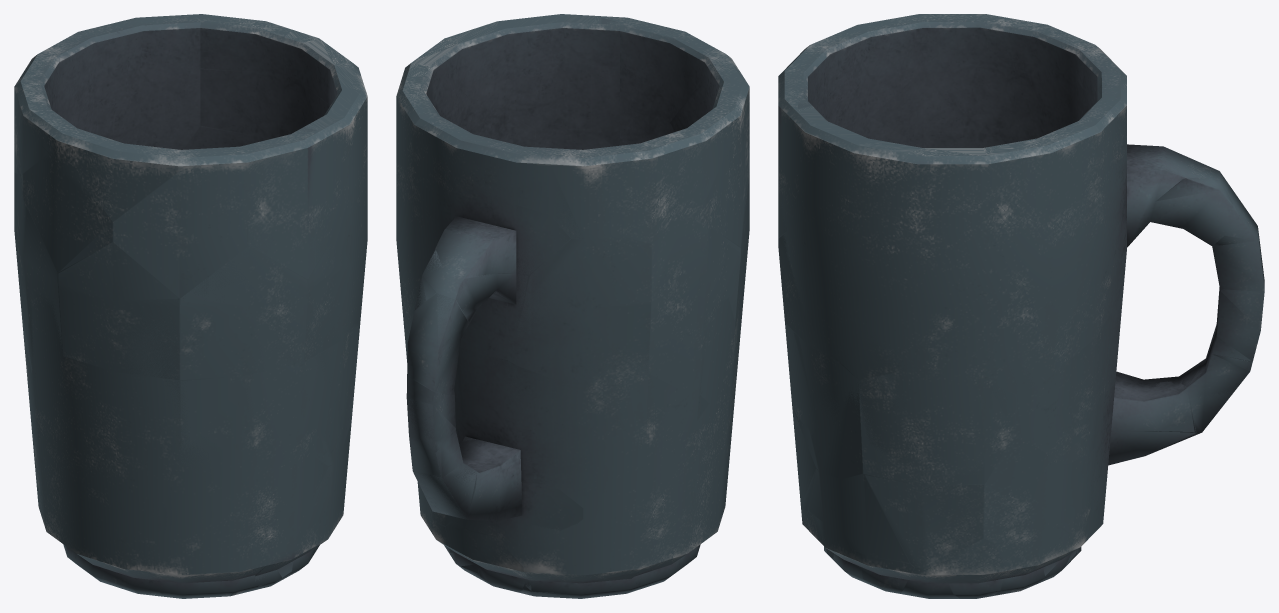
Rendered from MuggKross_withFractures_001_Malte.fbx.
The picture shows the model from 3 angles, left to right: view 1: azimuth 30°, elevation 25°; view 2: azimuth 150°, elevation 25°; view 3: azimuth 270°, elevation 25°; orthographic projection.
Visible parts, largest first — view 1: file1.002, file1.002_cell.051, file1.002_cell.008, file1.002_cell.021, file1.002_cell.020, file1.002_cell.062, file1.002_cell.031, file1.002_cell.005, file1.002_cell.029, file1.002_cell.079, file1.002_cell.049, file1.002_cell.048 (+18 smaller); view 2: file1.002, file1.002_cell.041, file1.002_cell.047, file1.002_cell.097, file1.002_cell.054, file1.002_cell.053, file1.002_cell.011, file1.002_cell.072, file1.002_cell.076, file1.002_cell.091, file1.002_cell.092, file1.002_cell.062 (+24 smaller); view 3: file1.002, file1.002_cell.014, file1.002_cell.001, file1.002_cell.083, file1.002_cell.055, file1.002_cell.071, file1.002_cell.015, file1.002_cell.058, file1.002_cell.081, file1.002_cell.069, file1.002_cell.088, file1.002_cell.062 (+16 smaller).
Part boxes in pixels (<box>): file1.002: <box>14,14,367,598</box>; file1.002_cell.051: <box>180,247,307,380</box>; file1.002_cell.008: <box>58,243,179,380</box>; file1.002_cell.021: <box>97,69,199,149</box>; file1.002_cell.020: <box>180,376,291,481</box>; file1.002_cell.062: <box>21,160,112,272</box>; file1.002_cell.031: <box>113,172,247,297</box>; file1.002_cell.005: <box>248,179,327,279</box>; file1.002_cell.029: <box>200,69,278,138</box>; file1.002_cell.079: <box>82,143,178,220</box>; file1.002_cell.049: <box>200,14,284,80</box>; file1.002_cell.048: <box>304,244,357,361</box>; file1.002: <box>396,16,749,598</box>; file1.002_cell.041: <box>517,235,651,378</box>; file1.002_cell.047: <box>649,216,740,395</box>; file1.002_cell.097: <box>457,19,540,113</box>; file1.002_cell.054: <box>618,150,683,243</box>; file1.002_cell.053: <box>498,63,591,130</box>; file1.002_cell.011: <box>551,163,617,239</box>; file1.002_cell.072: <box>407,293,469,395</box>; file1.002_cell.076: <box>457,205,570,278</box>; file1.002_cell.091: <box>468,356,551,471</box>; file1.002_cell.092: <box>496,483,583,566</box>; file1.002_cell.062: <box>693,134,749,246</box>; file1.002: <box>778,14,1264,598</box>; file1.002_cell.014: <box>1015,316,1109,464</box>; file1.002_cell.001: <box>865,475,983,568</box>; file1.002_cell.083: <box>984,434,1064,543</box>; file1.002_cell.055: <box>1099,307,1194,442</box>; file1.002_cell.071: <box>792,332,862,479</box>; file1.002_cell.015: <box>859,374,1015,485</box>; file1.002_cell.058: <box>1094,431,1196,505</box>; file1.002_cell.081: <box>842,475,909,562</box>; file1.002_cell.069: <box>932,539,1007,598</box>; file1.002_cell.088: <box>1061,444,1098,533</box>; file1.002_cell.062: <box>871,69,923,147</box>.
Size of the model in its own units: 99.64 by 146 by 139.
